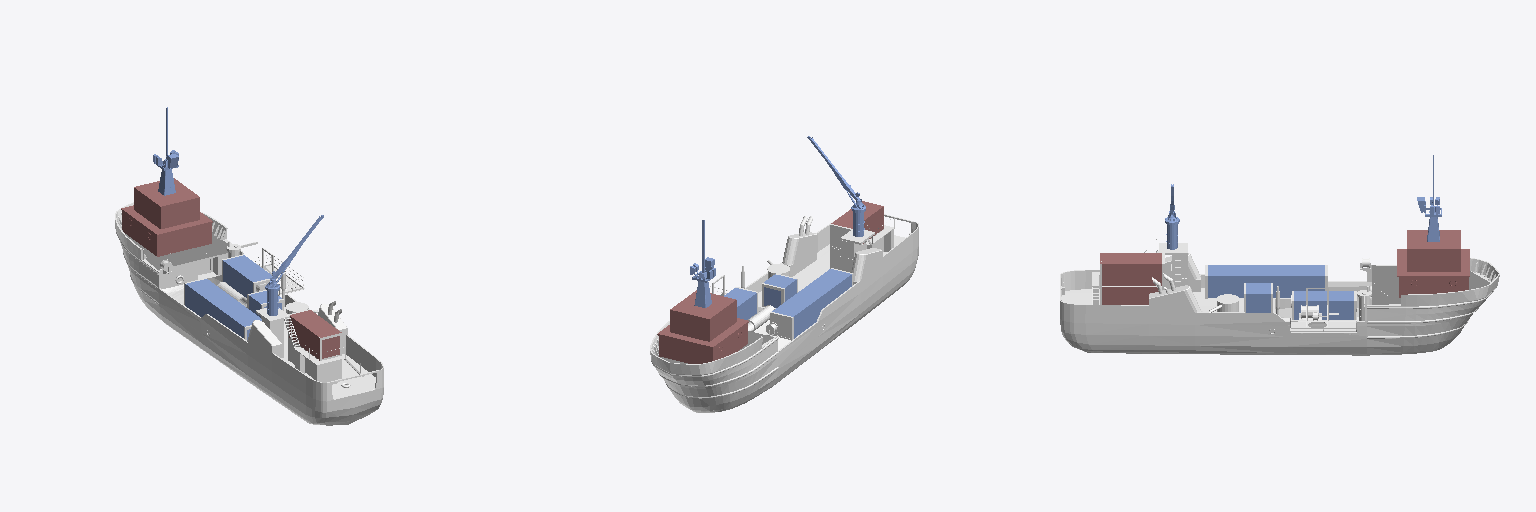
Rendered from container_ship.obj.
3 views of the same model, side by side, from view 1: azimuth 30°, elevation 25°; view 2: azimuth 150°, elevation 25°; view 3: azimuth 270°, elevation 25° (orthographic).
Parts seen in each view (by area): view 1: obj(null), Object04, Object06, Object07, Object01, Object05, Object02, Object03; view 2: obj(null), Object04, Object06, Object07, Object03, Object02, Object01; view 3: obj(null), Object04, Object06, Object01, Object07, Object05, Object03.
Boxes of the visible parts, <box> form: obj(null): <box>115,202,383,425</box>; Object04: <box>121,178,212,256</box>; Object06: <box>185,279,281,339</box>; Object07: <box>223,255,281,317</box>; Object01: <box>289,310,341,360</box>; Object05: <box>125,233,227,269</box>; Object02: <box>265,215,323,315</box>; Object03: <box>153,107,178,195</box>; obj(null): <box>650,214,918,412</box>; Object04: <box>657,290,748,363</box>; Object06: <box>772,269,851,338</box>; Object07: <box>724,274,796,319</box>; Object03: <box>690,220,715,307</box>; Object02: <box>807,136,865,236</box>; Object01: <box>831,201,883,243</box>; obj(null): <box>1060,239,1499,355</box>; Object04: <box>1397,230,1469,297</box>; Object06: <box>1208,265,1324,297</box>; Object01: <box>1100,253,1161,304</box>; Object07: <box>1246,283,1353,319</box>; Object05: <box>1372,265,1489,304</box>; Object03: <box>1417,155,1441,241</box>.
Bounding box in the file's own units: 1022 × 1678 × 3523.